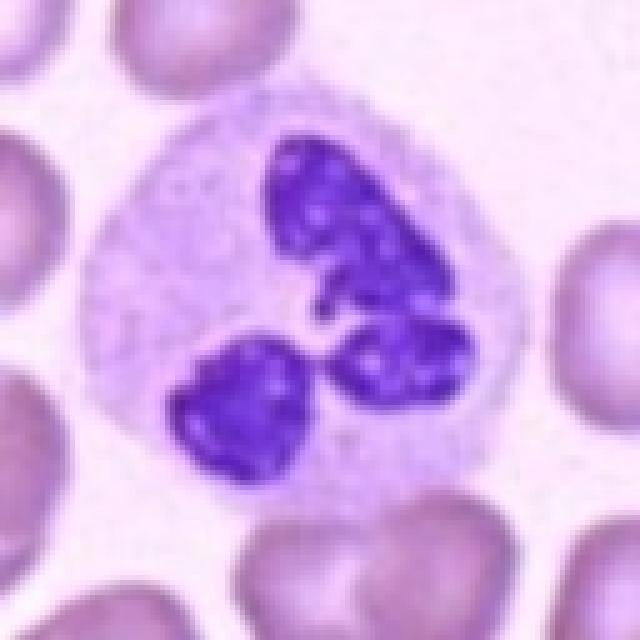neutro: (152, 104, 504, 536)
